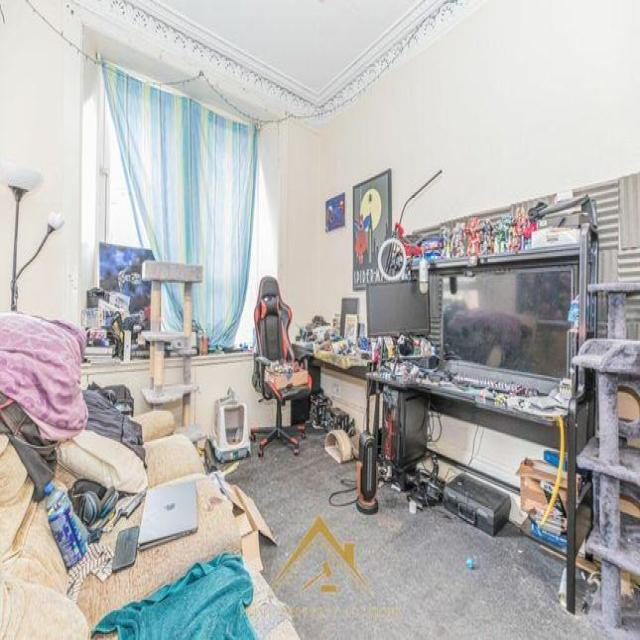Wall: (239, 2, 640, 339), (236, 435, 602, 639), (69, 0, 476, 119), (0, 0, 85, 322), (161, 1, 420, 95), (31, 0, 81, 46), (0, 184, 15, 310), (619, 589, 640, 637)
